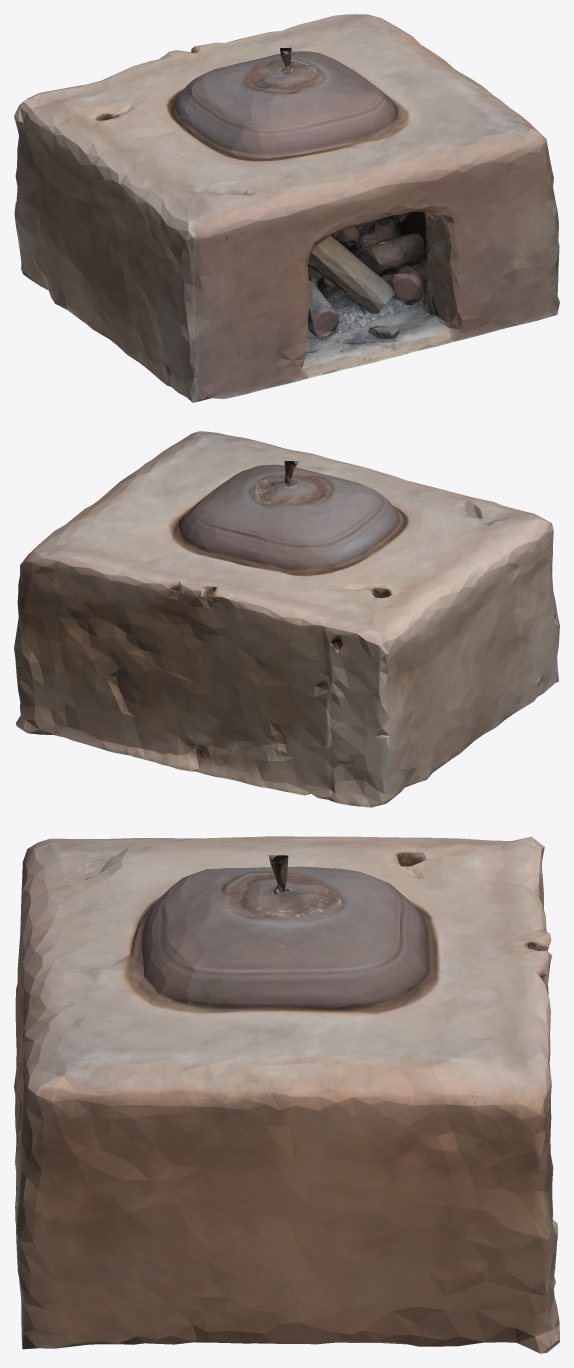
The model's file is Traditional_Clay_Stov_0520162613_texture.fbx.
The picture shows the model from 3 angles, top to bottom: view 1: azimuth 30°, elevation 25°; view 2: azimuth 150°, elevation 25°; view 3: azimuth 270°, elevation 25°; orthographic projection. The views are drawn at different scales.
Visible parts, largest first — view 1: temp; view 2: temp; view 3: temp.
Boxes of the visible parts, x1=… form: temp: x1=14, y1=14, x2=559, y2=402; temp: x1=14, y1=431, x2=559, y2=807; temp: x1=14, y1=836, x2=559, y2=1353.
Size of the model in its own units: 198 by 123 by 168.
Materials: 1 (1 with a texture image).
